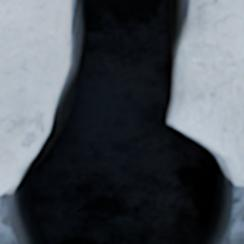broken_brick: (172, 0, 243, 186), (0, 0, 62, 197)
crack: (0, 0, 242, 243)
